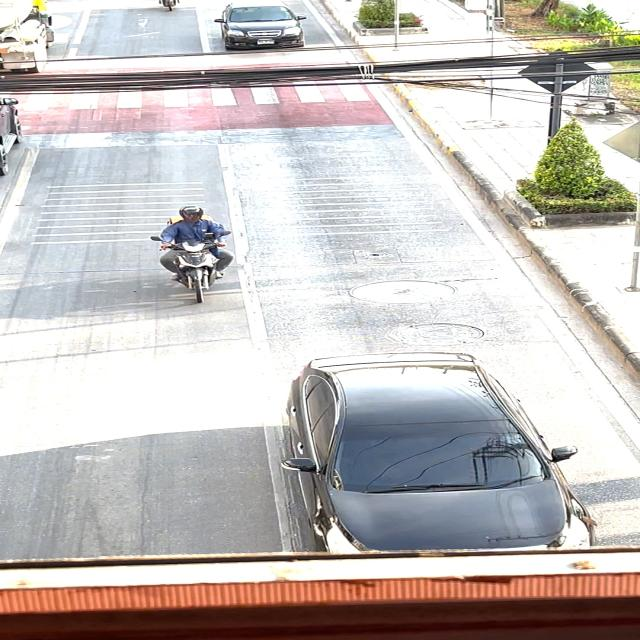car: (279, 339, 604, 558), (219, 0, 309, 58)
